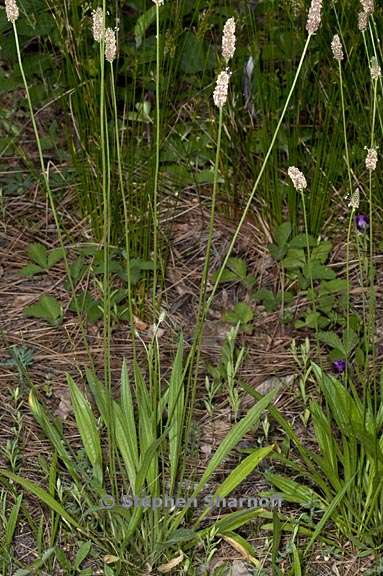buckhorn plantain: (3, 1, 248, 559), (284, 3, 383, 551)
